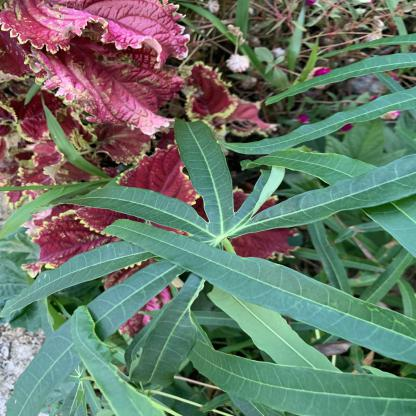Bunga Coleus: (12, 8, 192, 142)
